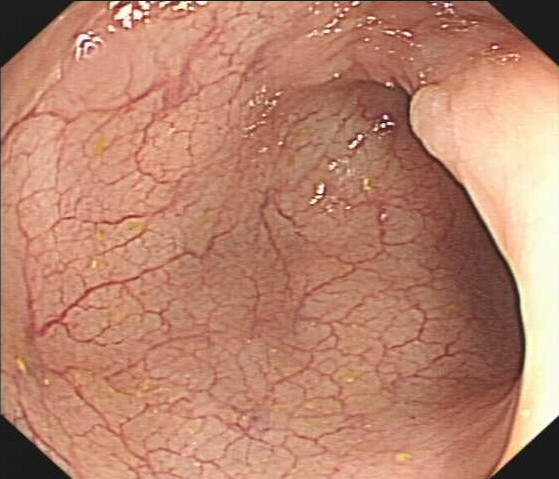adenoma: (405, 80, 463, 166)
